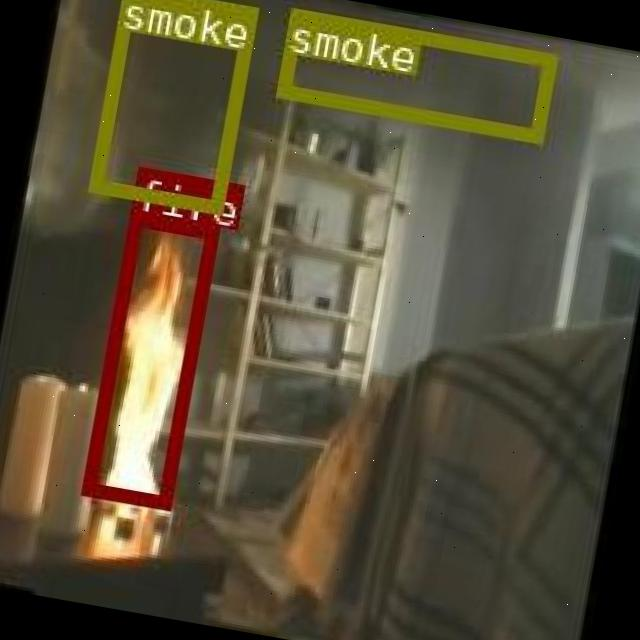fire: (80, 210, 216, 505)
smoke: (276, 5, 556, 140), (86, 0, 254, 211)
